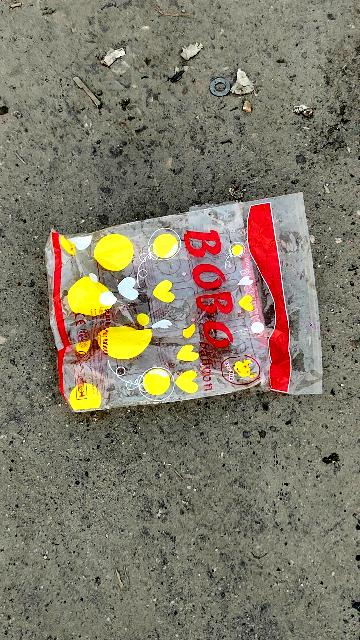polythene: (38, 194, 324, 432)
